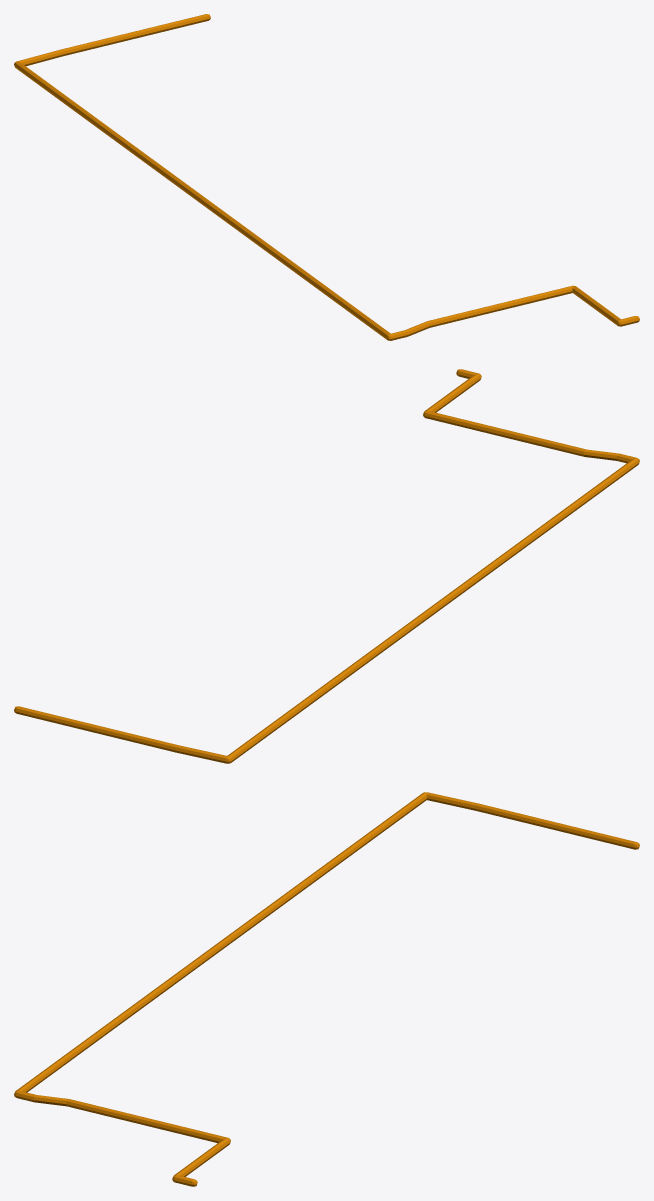
3 views of the same model, one above another, from view 1: azimuth 30°, elevation 25°; view 2: azimuth 150°, elevation 25°; view 3: azimuth 330°, elevation 25° (orthographic). The views are drawn at different scales.
Bounding box in the file's own units: 651 × 20 × 2257.
